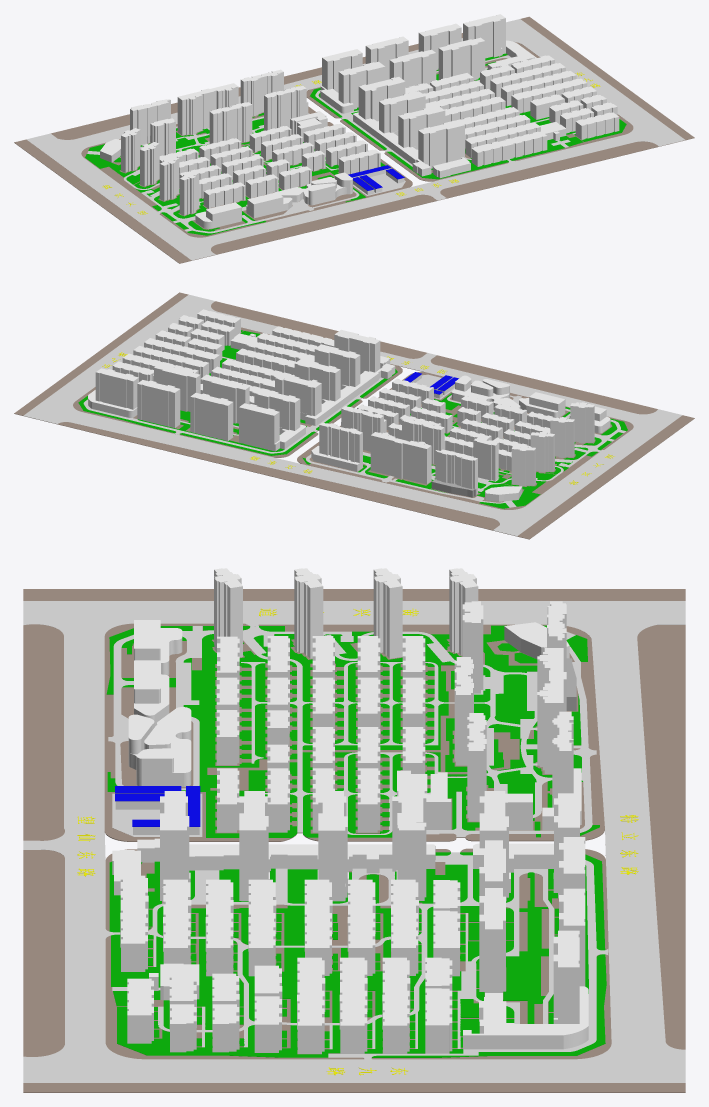
Rendered from 长沙项目项目周边模型.glb.
3 renders of one model, top to bottom at view 1: azimuth 30°, elevation 25°; view 2: azimuth 150°, elevation 25°; view 3: azimuth 270°, elevation 25°, orthographic. The views are drawn at different scales.
Visible parts, largest first — view 1: 项目总图; view 2: 项目总图; view 3: 项目总图.
Part boxes in pixels (x1=…): 项目总图: x1=14, y1=14, x2=694, y2=263; 项目总图: x1=14, y1=292, x2=694, y2=539; 项目总图: x1=23, y1=568, x2=685, y2=1092.
Bounding box in the file's own units: 125 × 8.27 × 69.44.
